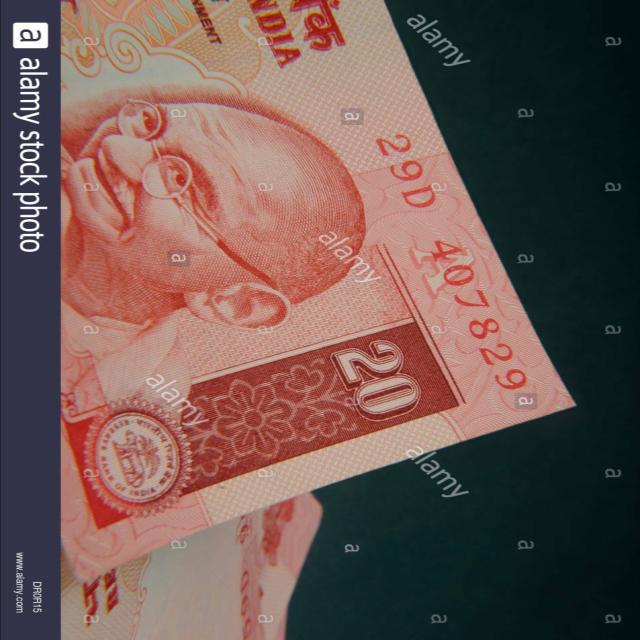20IndianRupees: (59, 0, 583, 556)
